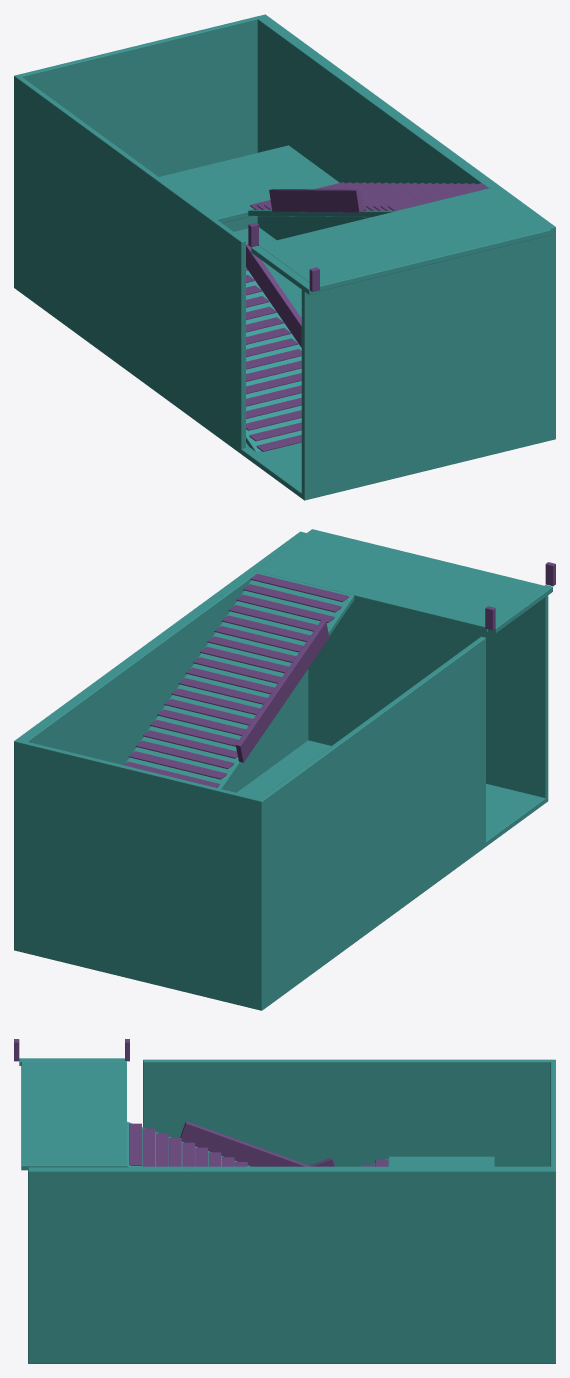
3 views of the same model, one above another, from view 1: azimuth 30°, elevation 25°; view 2: azimuth 150°, elevation 25°; view 3: azimuth 270°, elevation 25° (orthographic). The views are drawn at different scales.
Parts seen in each view (by area): view 1: 楼梯B_99至98层_Stair_Generic_Rotatable_EnclosureWall_Inner, 楼梯B_99至98层_Stair_Generic_Rotatable_EnclosureWall_DoorSi, 楼梯B_99至98层_Stair_Generic_Rotatable_EnclosureWall_Far, 楼梯B_99至98层_Stair_Generic_Rotatable_EnclosureWall_Outer, 楼梯B_99至98层_Stair_Generic_Rotatable_UpperDoorLanding_Wal, 楼梯B_99至98层_Stair_Generic_Rotatable_TurnLanding_Walkable, 楼梯B_99至98层_Stair_Generic_Rotatable_LowerDoorLanding_Wal, 楼梯B_99至98层_Stair_Generic_Rotatable_LowerFlight_Walkable, 楼梯B_99至98层_Stair_Generic_Rotatable_UpperFlight_Guard_02, 楼梯B_99至98层_Stair_Generic_Rotatable_LowerFlight_Guard_02, 楼梯B_99至98层_Stair_Generic_Rotatable_UpperFlight_Walkable, 楼梯B_99至98层_Stair_Generic_Rotatable_CoreConnector_Walkab (+1 smaller); view 2: 楼梯B_99至98层_Stair_Generic_Rotatable_EnclosureWall_Far, 楼梯B_99至98层_Stair_Generic_Rotatable_EnclosureWall_Inner, 楼梯B_99至98层_Stair_Generic_Rotatable_EnclosureWall_DoorSi, 楼梯B_99至98层_Stair_Generic_Rotatable_EnclosureWall_Outer, 楼梯B_99至98层_Stair_Generic_Rotatable_UpperDoorLanding_Wal, 楼梯B_99至98层_Stair_Generic_Rotatable_UpperFlight_Walkable, 楼梯B_99至98层_Stair_Generic_Rotatable_LowerDoorLanding_Wal, 楼梯B_99至98层_Stair_Generic_Rotatable_UpperFlight_Guard_02, 楼梯B_99至98层_Stair_Generic_Rotatable_ROOT_UpperFlight_Tre, 楼梯B_99至98层_Stair_Generic_Rotatable_ROOT_UpperFlight, 楼梯B_99至98层_Stair_Generic_Rotatable_ROOT_UpperFlight.015, 楼梯B_99至98层_Stair_Generic_Rotatable_ROOT_UpperFlight.016 (+15 smaller); view 3: 楼梯B_99至98层_Stair_Generic_Rotatable_EnclosureWall_Outer, 楼梯B_99至98层_Stair_Generic_Rotatable_EnclosureWall_Inner, 楼梯B_99至98层_Stair_Generic_Rotatable_UpperDoorLanding_Wal, 楼梯B_99至98层_Stair_Generic_Rotatable_LowerDoorLanding_Wal, 楼梯B_99至98层_Stair_Generic_Rotatable_UpperFlight_Guard_02, 楼梯B_99至98层_Stair_Generic_Rotatable_TurnLanding_Walkable, 楼梯B_99至98层_Stair_Generic_Rotatable_EnclosureWall_DoorSi, 楼梯B_99至98层_Stair_Generic_Rotatable_EnclosureWall_Far, 楼梯B_99至98层_Stair_Generic_Rotatable_ROOT_UpperFlight_Tre, 楼梯B_99至98层_Stair_Generic_Rotatable_ROOT_UpperFlight, 楼梯B_99至98层_Stair_Generic_Rotatable_ROOT_UpperFlight.001, 楼梯B_99至98层_Stair_Generic_Rotatable_CoreConnector_Walkab.
Part boxes in pixels (x1=…): 楼梯B_99至98层_Stair_Generic_Rotatable_EnclosureWall_Inner: x1=14, y1=75, x2=245, y2=449; 楼梯B_99至98层_Stair_Generic_Rotatable_EnclosureWall_DoorSi: x1=301, y1=225, x2=555, y2=496; 楼梯B_99至98层_Stair_Generic_Rotatable_EnclosureWall_Far: x1=15, y1=14, x2=266, y2=231; 楼梯B_99至98层_Stair_Generic_Rotatable_EnclosureWall_Outer: x1=257, y1=14, x2=555, y2=437; 楼梯B_99至98层_Stair_Generic_Rotatable_UpperDoorLanding_Wal: x1=258, y1=187, x2=551, y2=291; 楼梯B_99至98层_Stair_Generic_Rotatable_TurnLanding_Walkable: x1=159, y1=145, x2=339, y2=222; 楼梯B_99至98层_Stair_Generic_Rotatable_LowerDoorLanding_Wal: x1=14, y1=227, x2=555, y2=500; 楼梯B_99至98层_Stair_Generic_Rotatable_LowerFlight_Walkable: x1=246, y1=267, x2=301, y2=451; 楼梯B_99至98层_Stair_Generic_Rotatable_UpperFlight_Guard_02: x1=269, y1=189, x2=363, y2=212; 楼梯B_99至98层_Stair_Generic_Rotatable_LowerFlight_Guard_02: x1=246, y1=244, x2=301, y2=347; 楼梯B_99至98层_Stair_Generic_Rotatable_UpperFlight_Walkable: x1=248, y1=187, x2=491, y2=217; 楼梯B_99至98层_Stair_Generic_Rotatable_CoreConnector_Walkab: x1=251, y1=246, x2=316, y2=294; 楼梯B_99至98层_Stair_Generic_Rotatable_EnclosureWall_Far: x1=14, y1=739, x2=263, y2=1004; 楼梯B_99至98层_Stair_Generic_Rotatable_EnclosureWall_Inner: x1=257, y1=636, x2=485, y2=1006; 楼梯B_99至98层_Stair_Generic_Rotatable_EnclosureWall_DoorSi: x1=299, y1=531, x2=548, y2=798; 楼梯B_99至98层_Stair_Generic_Rotatable_EnclosureWall_Outer: x1=15, y1=532, x2=308, y2=792; 楼梯B_99至98层_Stair_Generic_Rotatable_UpperDoorLanding_Wal: x1=255, y1=529, x2=543, y2=632; 楼梯B_99至98层_Stair_Generic_Rotatable_UpperFlight_Walkable: x1=126, y1=571, x2=354, y2=789; 楼梯B_99至98层_Stair_Generic_Rotatable_LowerDoorLanding_Wal: x1=14, y1=740, x2=548, y2=1010; 楼梯B_99至98层_Stair_Generic_Rotatable_UpperFlight_Guard_02: x1=235, y1=620, x2=329, y2=762; 楼梯B_99至98层_Stair_Generic_Rotatable_ROOT_UpperFlight_Tre: x1=250, y1=573, x2=349, y2=601; 楼梯B_99至98层_Stair_Generic_Rotatable_ROOT_UpperFlight: x1=243, y1=584, x2=341, y2=612; 楼梯B_99至98层_Stair_Generic_Rotatable_ROOT_UpperFlight.015: x1=135, y1=740, x2=234, y2=768; 楼梯B_99至98层_Stair_Generic_Rotatable_ROOT_UpperFlight.016: x1=128, y1=751, x2=226, y2=779; 楼梯B_99至98层_Stair_Generic_Rotatable_EnclosureWall_Outer: x1=28, y1=1166, x2=555, y2=1360; 楼梯B_99至98层_Stair_Generic_Rotatable_EnclosureWall_Inner: x1=143, y1=1059, x2=555, y2=1166; 楼梯B_99至98层_Stair_Generic_Rotatable_UpperDoorLanding_Wal: x1=21, y1=1061, x2=126, y2=1170; 楼梯B_99至98层_Stair_Generic_Rotatable_LowerDoorLanding_Wal: x1=28, y1=1359, x2=555, y2=1363; 楼梯B_99至98层_Stair_Generic_Rotatable_UpperFlight_Guard_02: x1=180, y1=1121, x2=311, y2=1166; 楼梯B_99至98层_Stair_Generic_Rotatable_TurnLanding_Walkable: x1=389, y1=1156, x2=494, y2=1166; 楼梯B_99至98层_Stair_Generic_Rotatable_EnclosureWall_DoorSi: x1=28, y1=1167, x2=32, y2=1359; 楼梯B_99至98层_Stair_Generic_Rotatable_EnclosureWall_Far: x1=550, y1=1059, x2=555, y2=1171; 楼梯B_99至98层_Stair_Generic_Rotatable_ROOT_UpperFlight_Tre: x1=129, y1=1123, x2=141, y2=1165; 楼梯B_99至98层_Stair_Generic_Rotatable_ROOT_UpperFlight: x1=142, y1=1128, x2=155, y2=1166; 楼梯B_99至98层_Stair_Generic_Rotatable_ROOT_UpperFlight.001: x1=156, y1=1133, x2=168, y2=1166; 楼梯B_99至98层_Stair_Generic_Rotatable_CoreConnector_Walkab: x1=19, y1=1058, x2=124, y2=1065.
Bounding box in the file's own units: 15 × 13.46 × 30.8.
